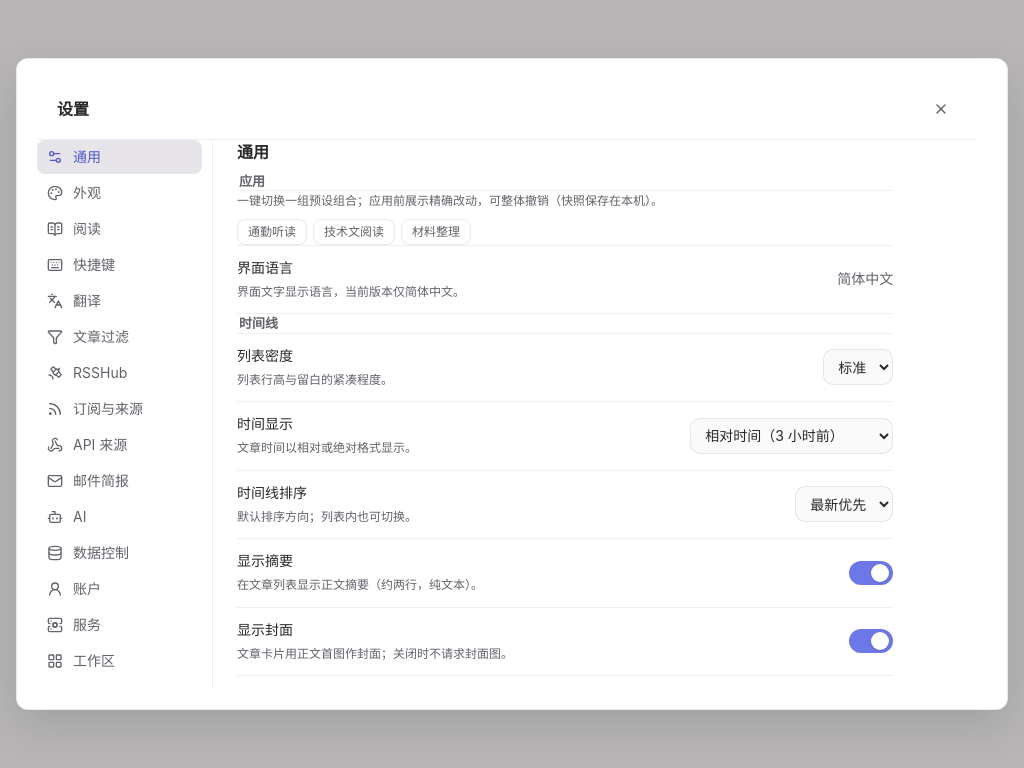
Test: 阅读分类 · 阅读行为组（新接入 UI） › 既有开关未被移动/删除（正文读到底自动已读 + 滚动时标记已读）
The image size is (1024, 768).
Click the button "阅读" at x=120, y=229, box x1=37 y1=212 x2=202 y2=246
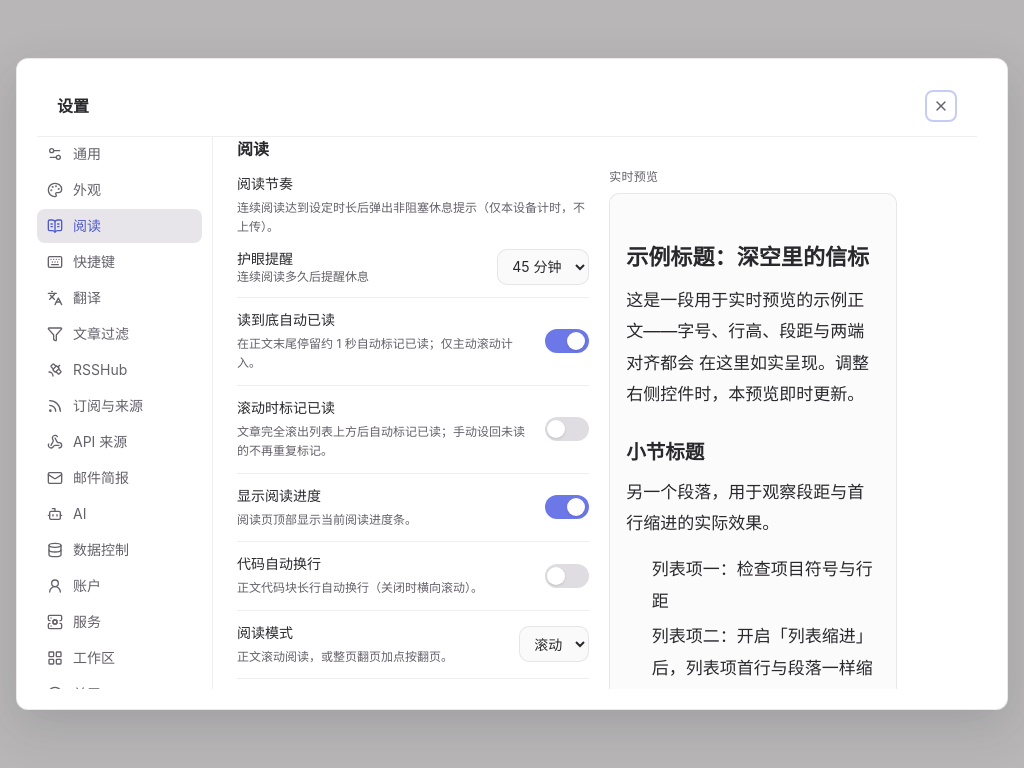
Check: the heading "阅读" is shown, box x1=237 y1=139 x2=269 y2=159
Check: the switch named "读到底自动已读" next to "在正文末尾停留约 1 秒自动标记已读；仅主动滚动计入。" is shown, box x1=545 y1=329 x2=589 y2=353
Check: the switch named "滚动时标记已读" next to "文章完全滚出列表上方后自动标记已读；手动设回未读的不再重复标记。" is shown, box x1=545 y1=417 x2=589 y2=441
